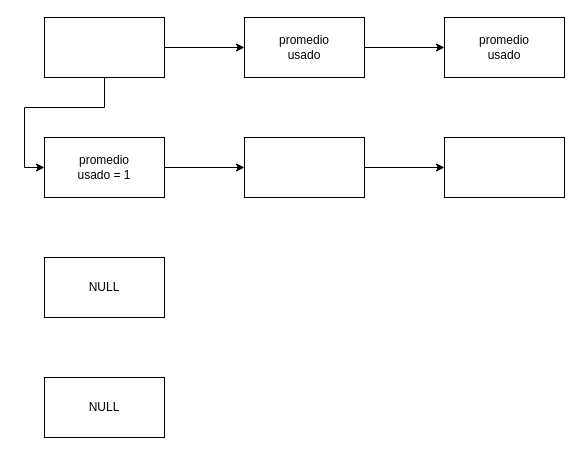
This 582x455 diagram has some shape labels left out. The centre of each missing label's shape, as x and y in pixels:
promedio usado= 2: (x=104, y=47)
usado = 1: (x=304, y=167)
